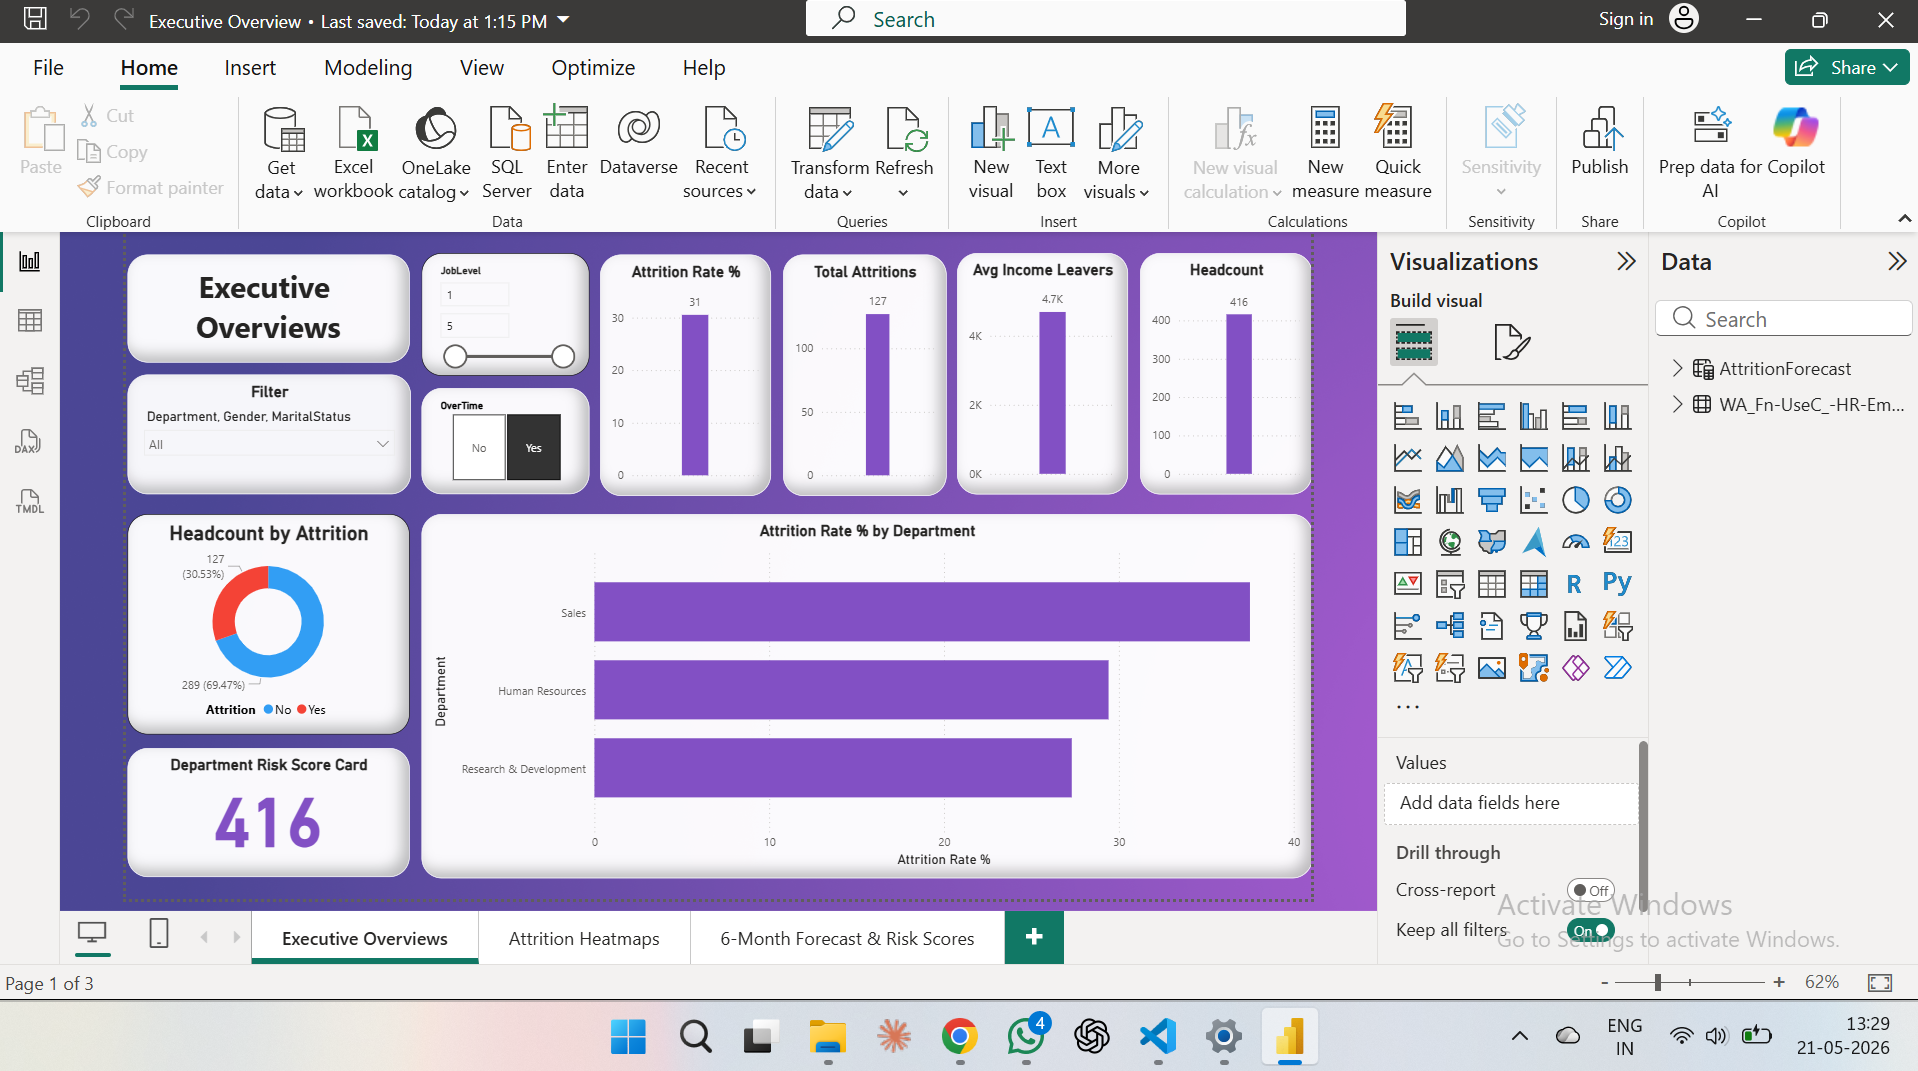

What the dashboard file says about the page in this screenshot:
{"tool":"powerbi","page":{"name":"Executive Overviews","canvas":[1280,720],"ordinal":0},"visuals":[{"type":"clusteredColumnChart","fields":{"Y":["WA_Fn-UseC_-HR-Employee-Attrition.Headcount"]},"box":[1094.6,22.7,186.2,260.7],"z":0},{"type":"clusteredColumnChart","fields":{"Y":["WA_Fn-UseC_-HR-Employee-Attrition.Attrition Rate %"]},"box":[511.7,24.3,184.6,260.7],"z":1000},{"type":"clusteredColumnChart","fields":{"Y":["WA_Fn-UseC_-HR-Employee-Attrition.Total Attritions"]},"box":[709.2,24.3,176.5,260.7],"z":2000},{"type":"clusteredColumnChart","fields":{"Y":["WA_Fn-UseC_-HR-Employee-Attrition.Avg Income Leavers"]},"box":[897.1,22.7,184.6,260.7],"z":3000},{"type":"donutChart","fields":{"Category":["WA_Fn-UseC_-HR-Employee-Attrition.Attrition"],"Y":["WA_Fn-UseC_-HR-Employee-Attrition.Headcount"]},"box":[1.6,304.4,304.4,238],"z":4000},{"type":"clusteredBarChart","fields":{"Category":["WA_Fn-UseC_-HR-Employee-Attrition.Department"],"Y":["WA_Fn-UseC_-HR-Employee-Attrition.Attrition Rate %"]},"box":[319,304.4,961.8,393.5],"z":5000},{"type":"slicer","title":"Filter","fields":{"Values":["WA_Fn-UseC_-HR-Employee-Attrition.Department","WA_Fn-UseC_-HR-Employee-Attrition.Gender","WA_Fn-UseC_-HR-Employee-Attrition.MaritalStatus"]},"box":[1.6,153.8,306,129.5],"z":6000},{"type":"kpi","title":"Department Risk Score Card","fields":{"Indicator":["CountNonNull(WA_Fn-UseC_-HR-Employee-Attrition.Department)"],"TrendLine":["WA_Fn-UseC_-HR-Employee-Attrition.Dept Risk Score"]},"box":[1.6,557,304.4,139.3],"z":7000},{"type":"slicer","fields":{"Values":["WA_Fn-UseC_-HR-Employee-Attrition.JobLevel"]},"box":[319,22.7,181.4,132.8],"z":8000},{"type":"slicer","fields":{"Values":["WA_Fn-UseC_-HR-Employee-Attrition.OverTime"]},"box":[319,168.4,181.4,115],"z":9000},{"type":"textbox","box":[1.6,24.3,304.4,116.6],"z":9001}]}

Visuals, with their boxes on the page's 1280x720 design canvas (x1, y1, x2, y2). These are canvas units, not pixel positions in the 1918x1071 screenshot, which may show the page scaled, cropped or inside an application window:
clusteredColumnChart - WA_Fn-UseC_-HR-Employee-Attrition.Headcount: x1=1095, y1=23, x2=1281, y2=283
clusteredColumnChart - WA_Fn-UseC_-HR-Employee-Attrition.Attrition Rate %: x1=512, y1=24, x2=696, y2=285
clusteredColumnChart - WA_Fn-UseC_-HR-Employee-Attrition.Total Attritions: x1=709, y1=24, x2=886, y2=285
clusteredColumnChart - WA_Fn-UseC_-HR-Employee-Attrition.Avg Income Leavers: x1=897, y1=23, x2=1082, y2=283
donutChart - WA_Fn-UseC_-HR-Employee-Attrition.Attrition x WA_Fn-UseC_-HR-Employee-Attrition.Headcount: x1=2, y1=304, x2=306, y2=542
clusteredBarChart - WA_Fn-UseC_-HR-Employee-Attrition.Department x WA_Fn-UseC_-HR-Employee-Attrition.Attrition Rate %: x1=319, y1=304, x2=1281, y2=698
"Filter" slicer: x1=2, y1=154, x2=308, y2=283
"Department Risk Score Card" kpi: x1=2, y1=557, x2=306, y2=696
slicer - WA_Fn-UseC_-HR-Employee-Attrition.JobLevel: x1=319, y1=23, x2=500, y2=156
slicer - WA_Fn-UseC_-HR-Employee-Attrition.OverTime: x1=319, y1=168, x2=500, y2=283
textbox: x1=2, y1=24, x2=306, y2=141
